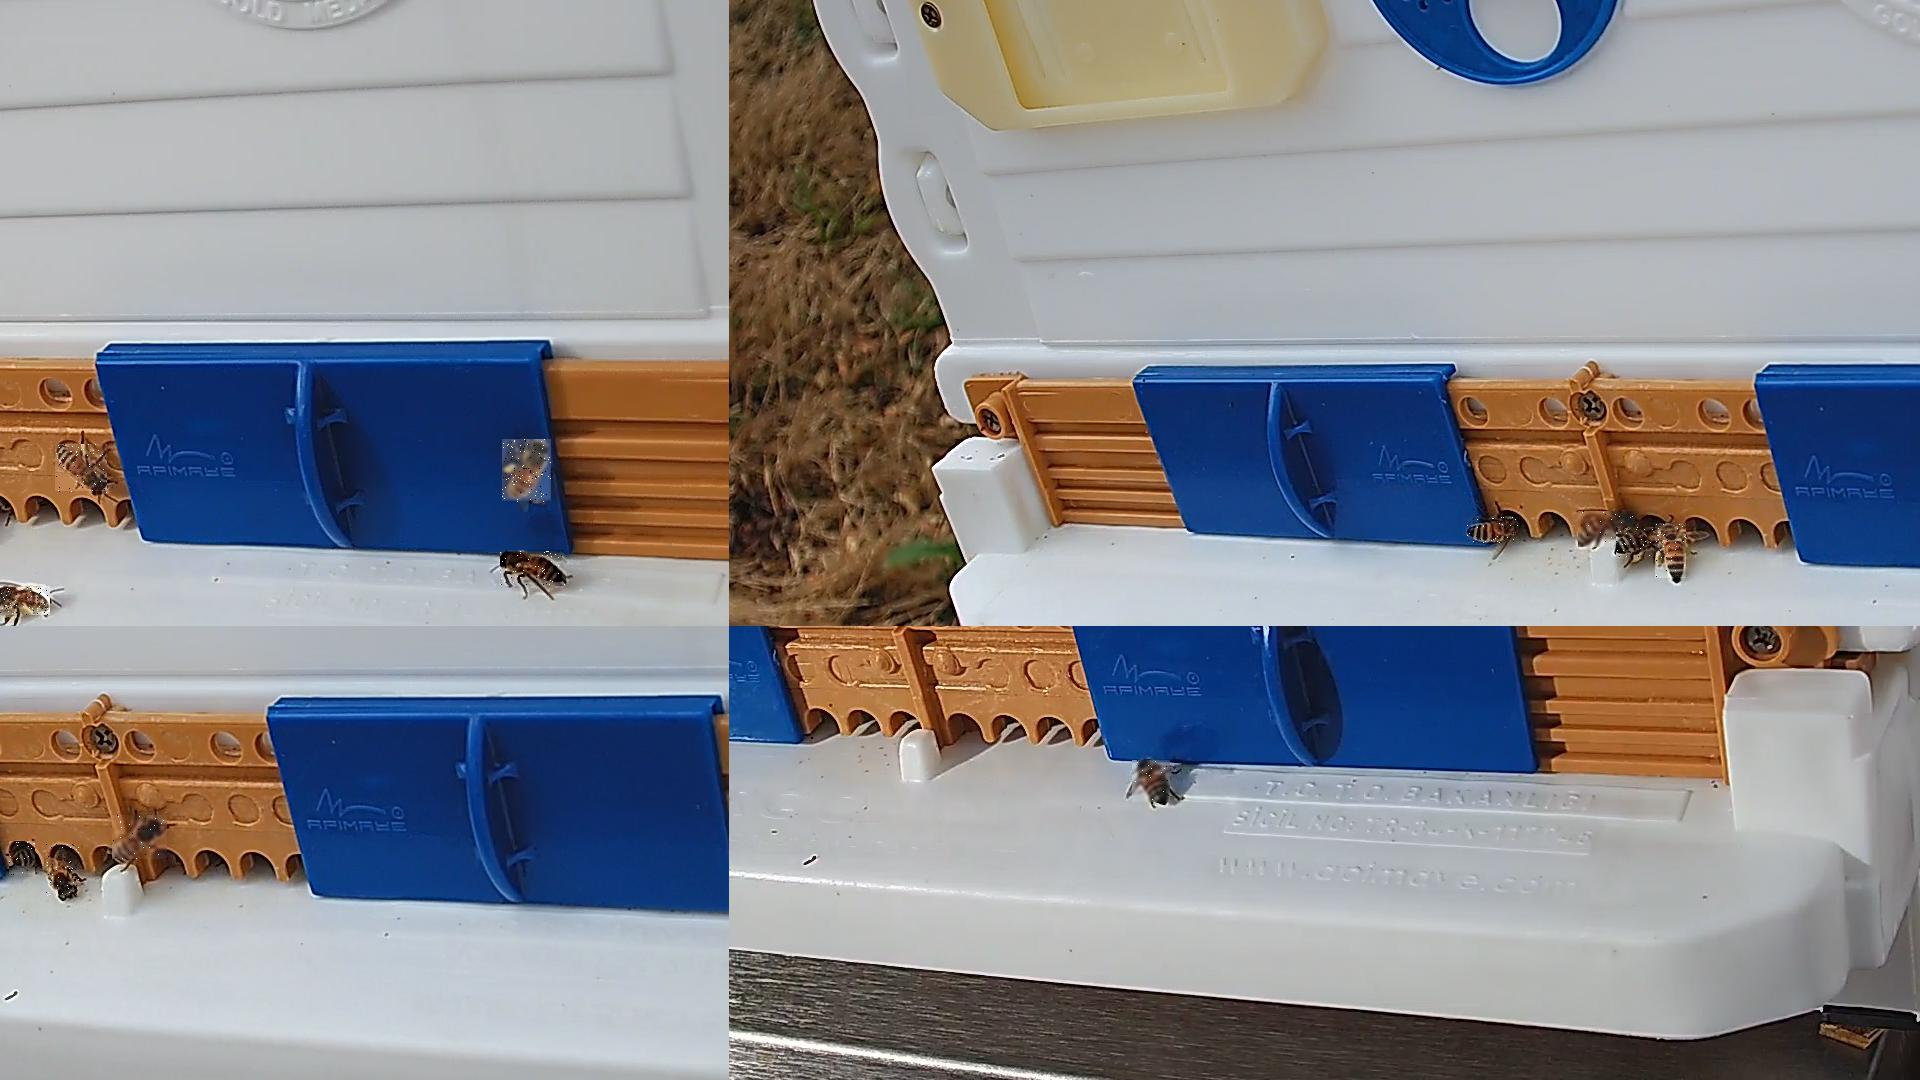bee: (55, 444, 108, 495), (112, 815, 169, 860), (501, 551, 567, 587), (1578, 512, 1636, 549), (46, 844, 80, 897), (1133, 760, 1171, 803), (1468, 517, 1520, 545), (9, 841, 36, 878)
pollenbee: (502, 439, 553, 504), (1655, 524, 1687, 582), (0, 585, 51, 617), (1617, 527, 1665, 560)
